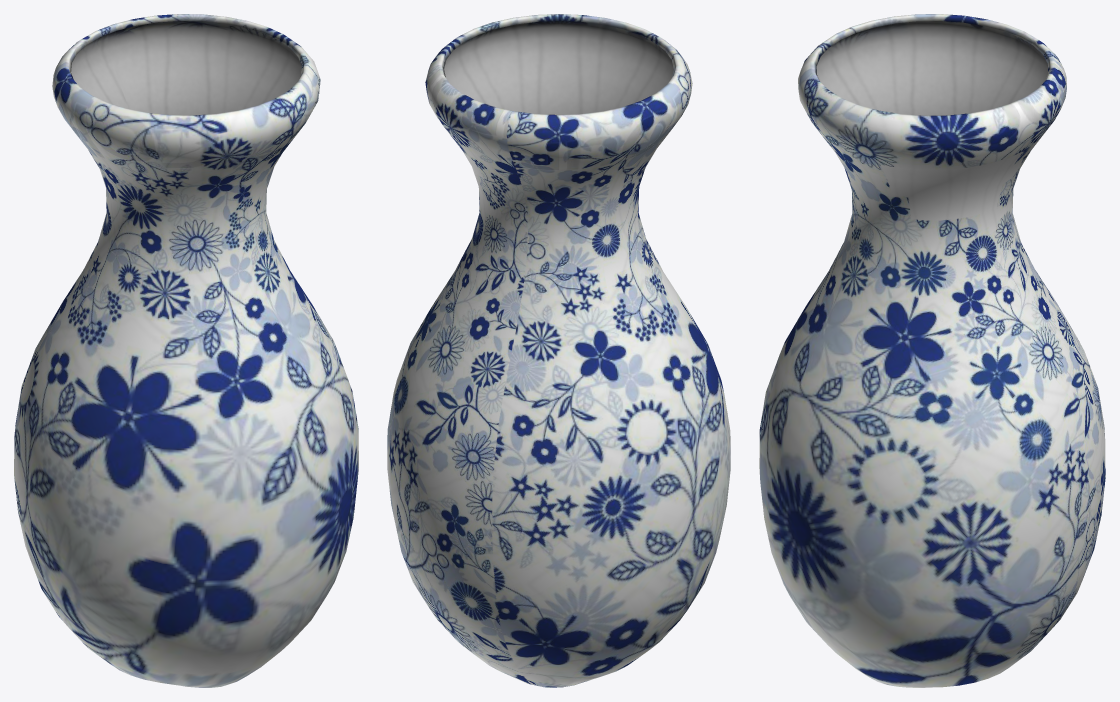
Rendered from vase.glb.
The picture shows the model from 3 angles, left to right: view 1: azimuth 30°, elevation 25°; view 2: azimuth 150°, elevation 25°; view 3: azimuth 270°, elevation 25°; orthographic projection.
Parts seen in each view (by area): view 1: Plane; view 2: Plane; view 3: Plane.
Boxes of the visible parts, x1,y1,x2,y2 form: Plane: (14,14,358,687); Plane: (387,14,730,687); Plane: (759,14,1105,687).
Bounding box in the file's own units: 0.1268 × 0.245 × 0.1268.
1 material, 1 textured.
